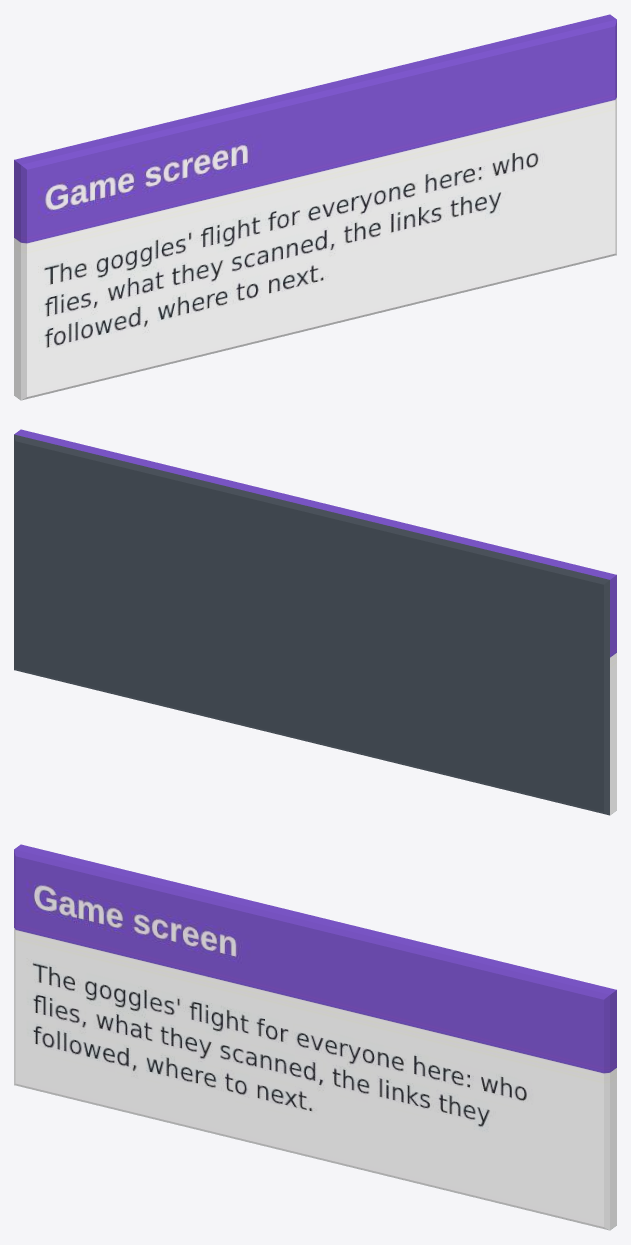
Rendered from 27-game-screen.glb.
3 renders of one model, top to bottom at view 1: azimuth 30°, elevation 25°; view 2: azimuth 150°, elevation 25°; view 3: azimuth 330°, elevation 25°, orthographic.
Parts seen in each view (by area): view 1: board; view 2: board; view 3: board.
Boxes of the visible parts, left/top/right/bottom form: board: left=14, top=14, right=616, bottom=400; board: left=14, top=429, right=616, bottom=815; board: left=14, top=844, right=616, bottom=1230.
Bounding box in the file's own units: 0.9 × 0.34 × 0.03.
Materials: 1 (1 with a texture image).
